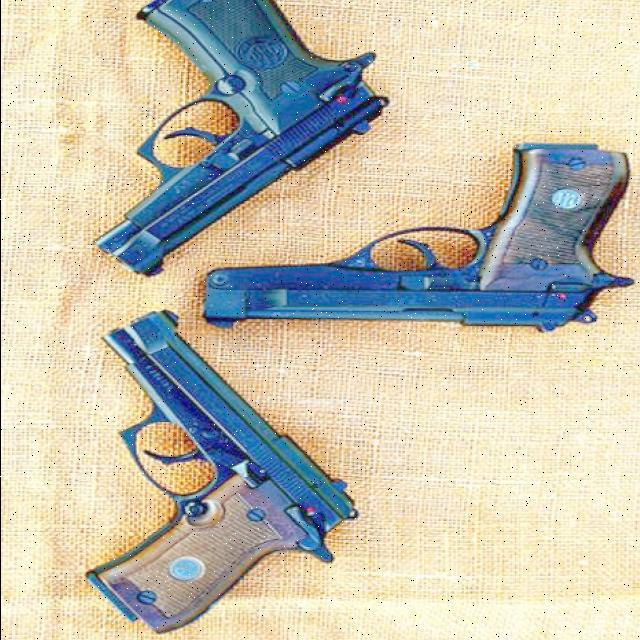Guns: (84, 307, 356, 632), (91, 0, 385, 276), (198, 145, 631, 332)
